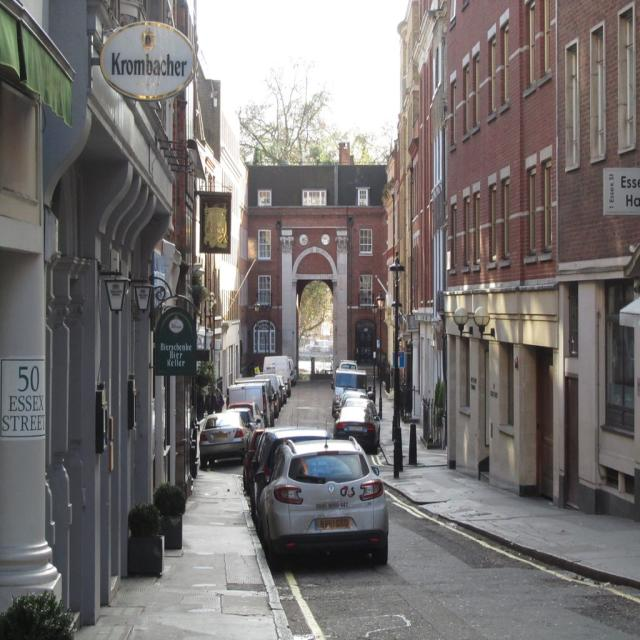car: (332, 397, 380, 451)
